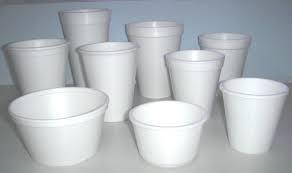Plastic cup: (4, 2, 292, 173)
